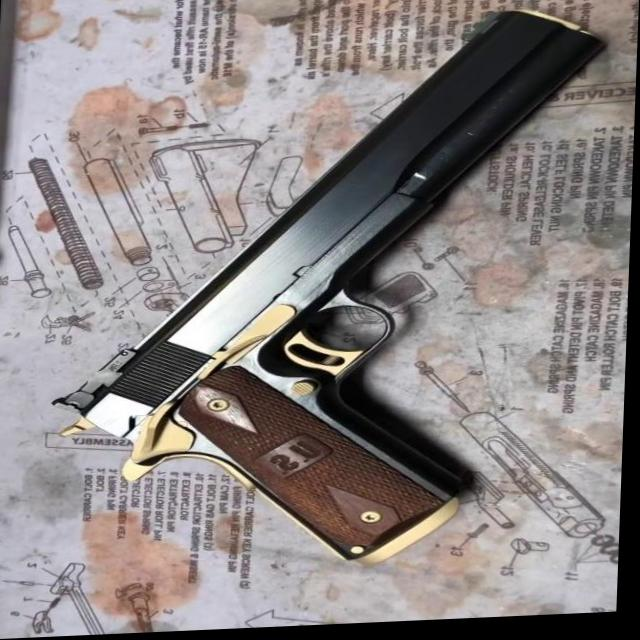handgun: (47, 13, 610, 581)
